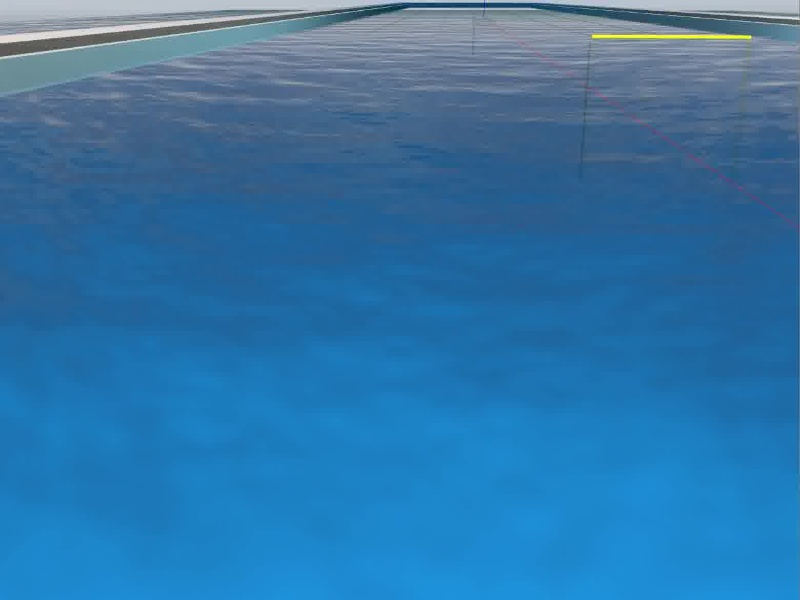gate: (577, 31, 754, 188)
